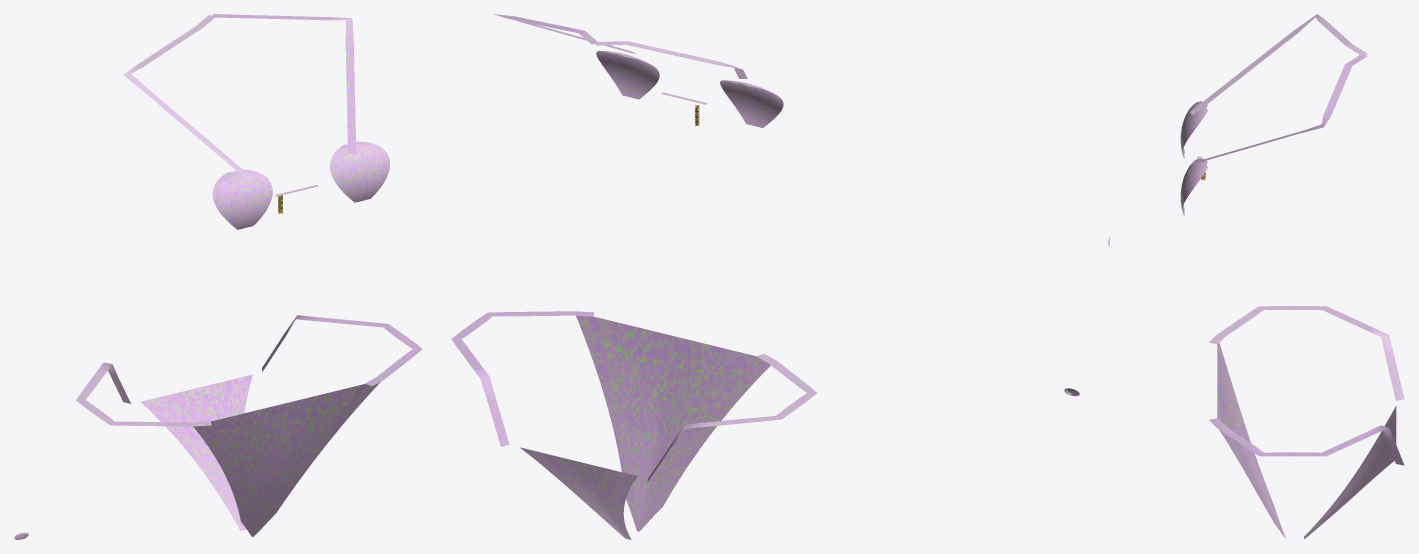
Rendered from bikini_8625a973.obj.
3 renders of one model, left to right at view 1: azimuth 30°, elevation 25°; view 2: azimuth 150°, elevation 25°; view 3: azimuth 270°, elevation 25°, orthographic. The views are drawn at different scales.
Visible parts, largest first — view 1: bottom_front_highcut, bottom_back_thong, cup_right_triangle, cup_left_triangle, strap_right_halter, strap_left_halter, bottom_strap_left_tie, bottom_strap_right_tie; view 2: bottom_front_highcut, bottom_back_thong, bottom_strap_right_tie, cup_right_triangle, cup_left_triangle, bottom_strap_left_tie; view 3: bottom_front_highcut, bottom_back_thong, bottom_strap_left_tie, bottom_strap_right_tie, strap_left_halter, strap_right_halter, cup_right_triangle, cup_left_triangle.
Boxes of the visible parts, <box> form: bottom_front_highcut: <box>193,381,380,536</box>; bottom_back_thong: <box>141,374,252,530</box>; cup_right_triangle: <box>330,141,389,202</box>; cup_left_triangle: <box>212,169,272,229</box>; strap_right_halter: <box>212,14,356,153</box>; strap_left_halter: <box>123,15,250,179</box>; bottom_strap_left_tie: <box>76,362,211,426</box>; bottom_strap_right_tie: <box>262,315,422,386</box>; bottom_front_highcut: <box>576,315,770,531</box>; bottom_back_thong: <box>520,447,637,539</box>; bottom_strap_right_tie: <box>451,311,594,446</box>; cup_right_triangle: <box>596,50,659,99</box>; cup_left_triangle: <box>720,80,783,128</box>; bottom_strap_left_tie: <box>647,354,816,482</box>; bottom_front_highcut: <box>1217,343,1285,537</box>; bottom_back_thong: <box>1304,406,1396,539</box>; bottom_strap_left_tie: <box>1209,306,1404,400</box>; bottom_strap_right_tie: <box>1209,418,1404,465</box>; strap_left_halter: <box>1189,14,1367,114</box>; strap_right_halter: <box>1190,55,1367,164</box>; cup_right_triangle: <box>1180,158,1207,215</box>; cup_left_triangle: <box>1180,101,1207,158</box>.
Bounding box in the file's own units: 0.6827 × 0.6615 × 0.3674.
Materials: 2 (1 with a texture image).
